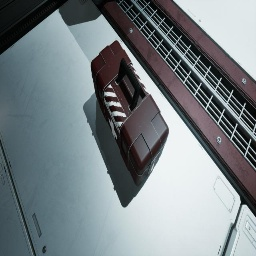FirstAidBox ,: (91, 40, 169, 186)
